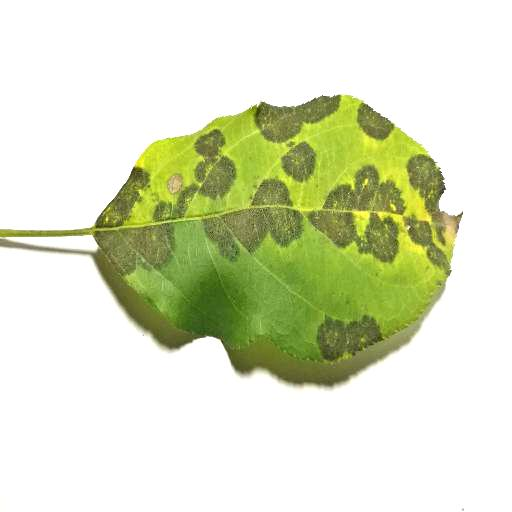Brown_Spot: (86, 72, 465, 404)
